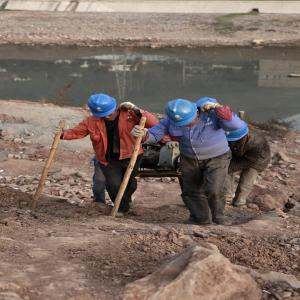blue: (165, 99, 202, 130), (87, 94, 123, 124)
